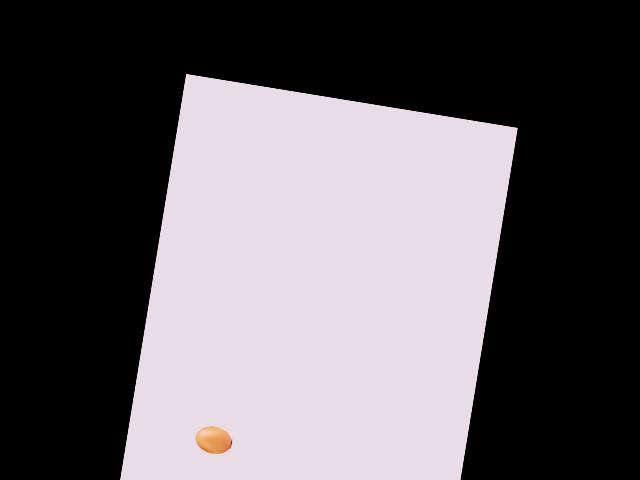egg: (193, 424, 233, 456)
